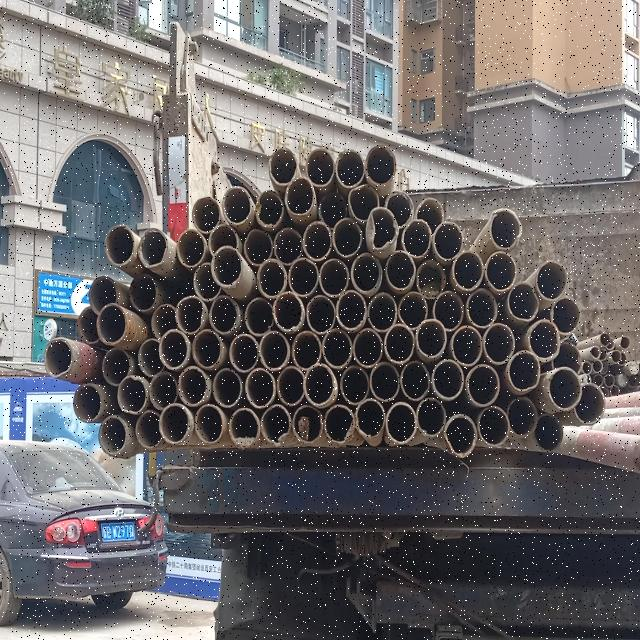pipe: (548, 366, 582, 410), (466, 363, 500, 407), (303, 362, 336, 407), (444, 413, 477, 458), (572, 382, 606, 425), (506, 349, 540, 392), (430, 358, 464, 401), (158, 402, 192, 444), (210, 245, 243, 288), (367, 206, 399, 250), (528, 318, 560, 362), (190, 328, 224, 369), (476, 404, 508, 447), (488, 208, 522, 248), (42, 336, 74, 378), (158, 328, 190, 370), (364, 144, 396, 186), (316, 188, 348, 230), (350, 252, 382, 294), (432, 290, 464, 332), (483, 322, 515, 364), (95, 302, 127, 343), (137, 227, 169, 268), (335, 289, 366, 331), (354, 398, 384, 441), (208, 293, 240, 333), (452, 250, 484, 290), (484, 251, 516, 291), (535, 260, 567, 300), (507, 280, 539, 320), (466, 286, 498, 326), (272, 292, 304, 332), (258, 330, 290, 370), (290, 329, 322, 369), (415, 318, 447, 358), (228, 406, 260, 446), (292, 404, 324, 444), (104, 224, 134, 266), (385, 250, 415, 292), (416, 258, 446, 300), (322, 328, 352, 370), (261, 404, 291, 446), (386, 400, 416, 442), (207, 223, 239, 262), (348, 184, 380, 223), (384, 323, 414, 364), (116, 376, 148, 414), (98, 414, 128, 454), (88, 275, 118, 315), (176, 228, 206, 268), (178, 366, 208, 406), (335, 148, 365, 188), (284, 176, 314, 216), (384, 190, 414, 230), (332, 217, 362, 257), (402, 218, 432, 258), (433, 220, 463, 260), (256, 258, 286, 298), (288, 256, 318, 296), (318, 257, 348, 297), (367, 292, 397, 332), (244, 296, 274, 336), (353, 326, 383, 366), (452, 325, 482, 365), (400, 360, 430, 400), (370, 361, 400, 401), (276, 366, 306, 406), (246, 368, 276, 408), (212, 368, 242, 408), (324, 404, 354, 444), (508, 396, 538, 436), (228, 333, 258, 372), (102, 347, 131, 387), (303, 220, 332, 260), (306, 294, 335, 334), (194, 404, 223, 444), (192, 195, 222, 233), (174, 296, 204, 334), (222, 186, 252, 224), (550, 296, 580, 334), (398, 291, 428, 329), (551, 340, 581, 378), (534, 413, 564, 451), (340, 365, 369, 404), (74, 382, 102, 422), (129, 272, 157, 312), (418, 397, 446, 437), (243, 228, 273, 265), (149, 370, 178, 408), (134, 409, 162, 448), (138, 338, 166, 377), (414, 197, 444, 233), (151, 302, 179, 340), (193, 262, 221, 300), (306, 148, 334, 186), (255, 188, 283, 226), (270, 148, 298, 184), (274, 228, 302, 264), (77, 306, 102, 344), (616, 372, 628, 387), (600, 332, 610, 347), (611, 349, 621, 364), (580, 373, 592, 385), (592, 358, 602, 372), (616, 352, 626, 366), (604, 373, 614, 387), (628, 361, 638, 374), (628, 374, 638, 387), (620, 336, 630, 348), (590, 346, 600, 358), (582, 362, 592, 374), (606, 336, 614, 351), (593, 374, 603, 386), (610, 384, 620, 396), (600, 386, 610, 398), (598, 348, 607, 360), (600, 362, 608, 374)
